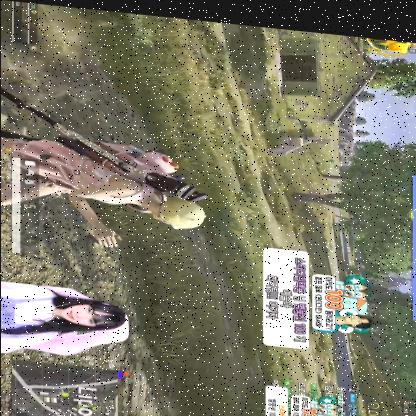donation: (260, 240, 374, 351), (262, 377, 344, 416)
streamer: (0, 281, 126, 363)
